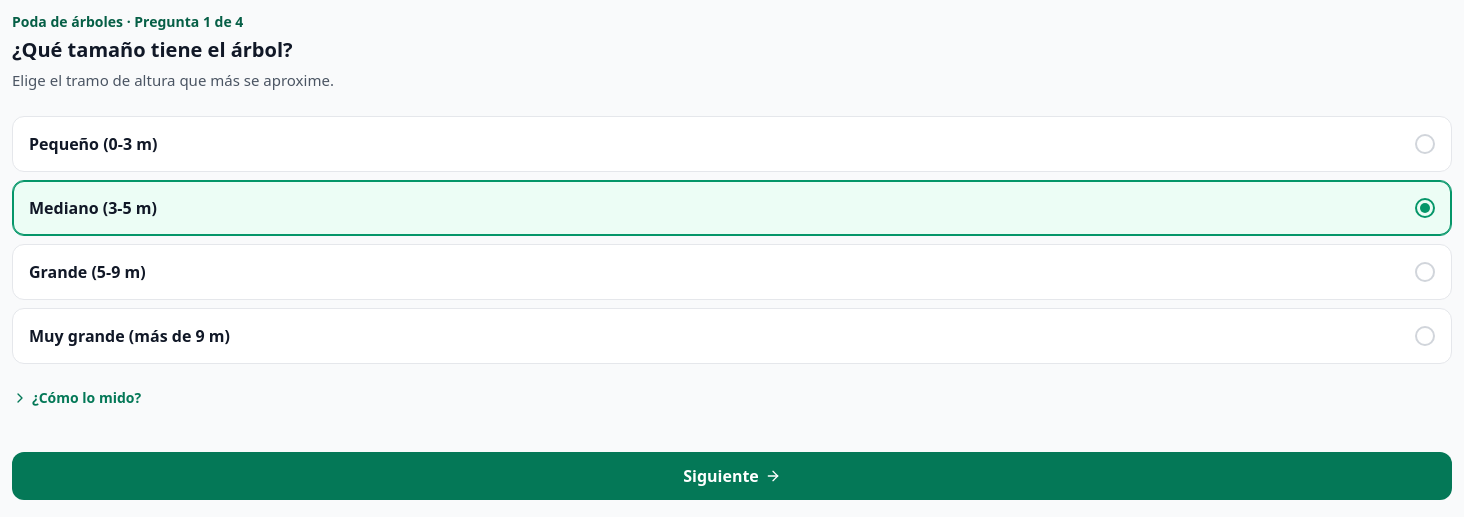
Test: árboles · acceso obligatorio (H-N-17) › sin elegir no avanza: error y foco en el grupo; al elegir, sigue
Click the button "Siguiente" at (732, 476), box [12,452,1452,500]
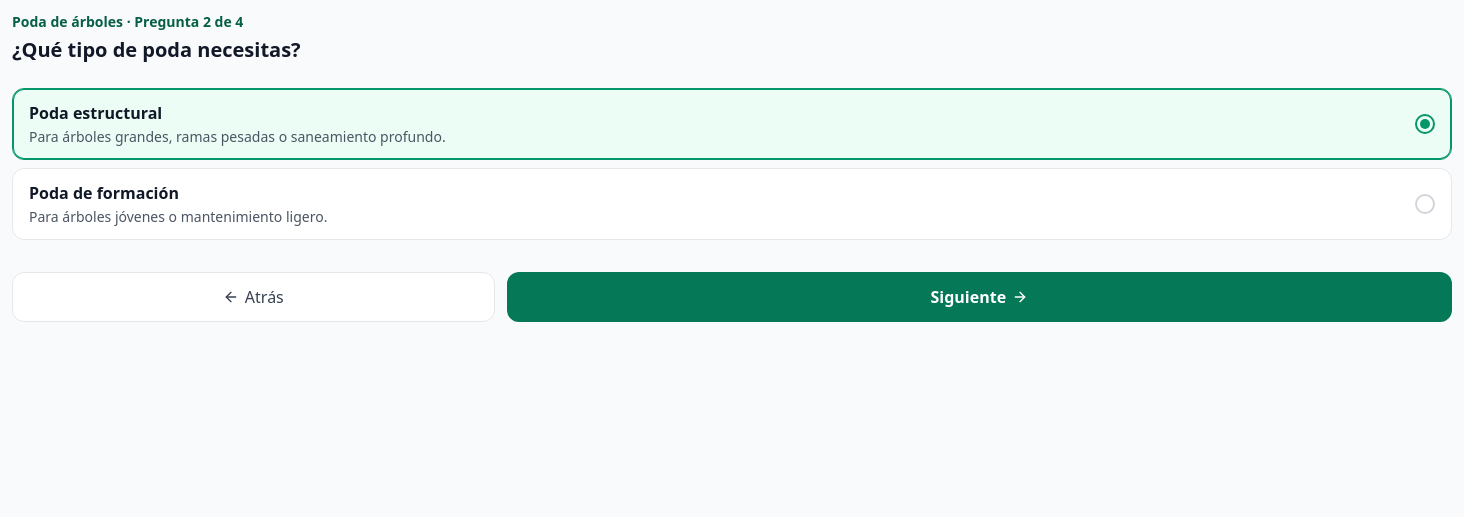
Click the button "Siguiente" at (979, 297), box [507,272,1452,322]
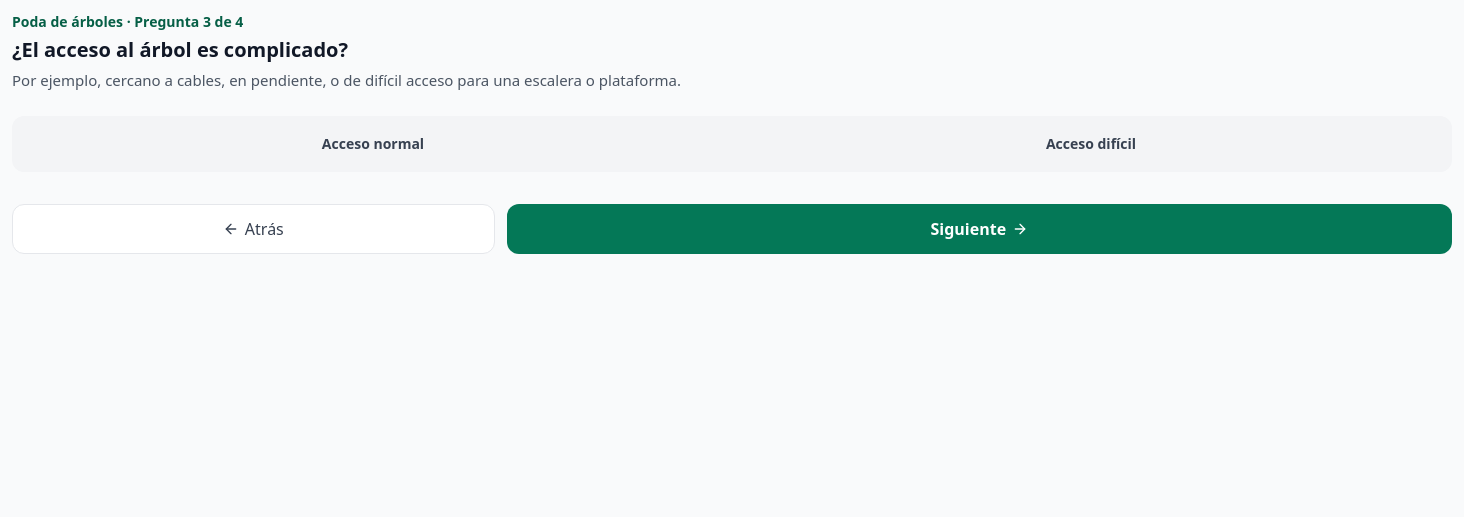
Click the button "Siguiente" at (979, 229), box [507,204,1452,254]
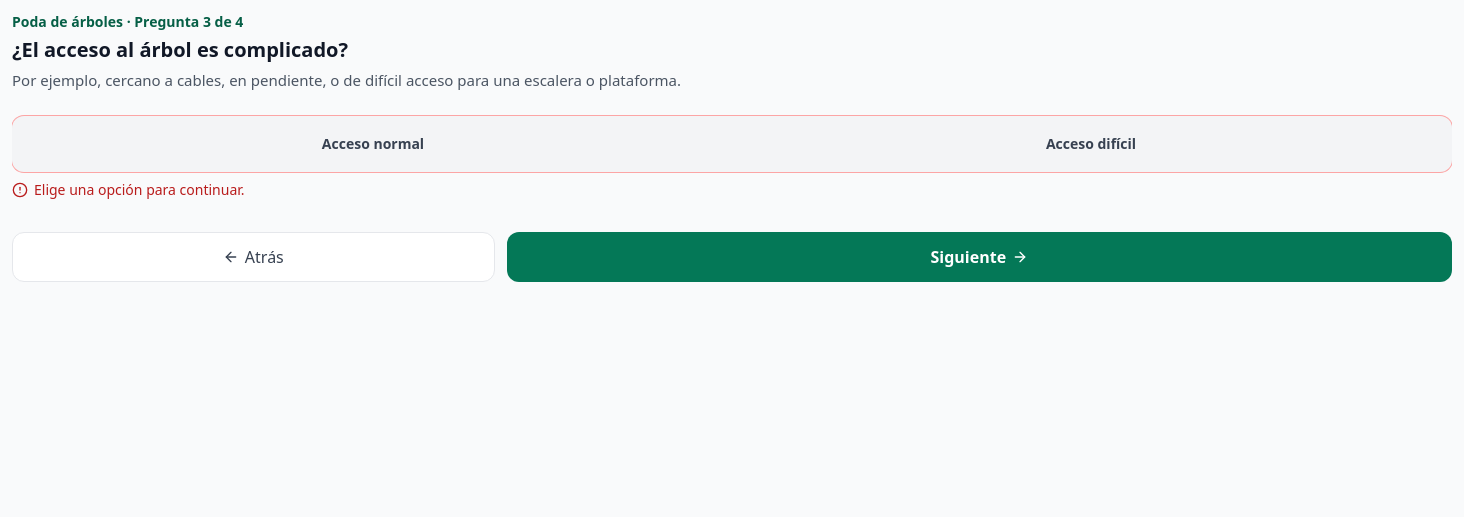
Expected: the heading reads "¿El acceso al árbol es complicado?", [12,36,348,63]
Expected: the text "Elige una opción para continuar." is shown, [34,180,244,200]
Click the radio button labelled "Acceso normal" at (373, 144), box [16,120,730,168]
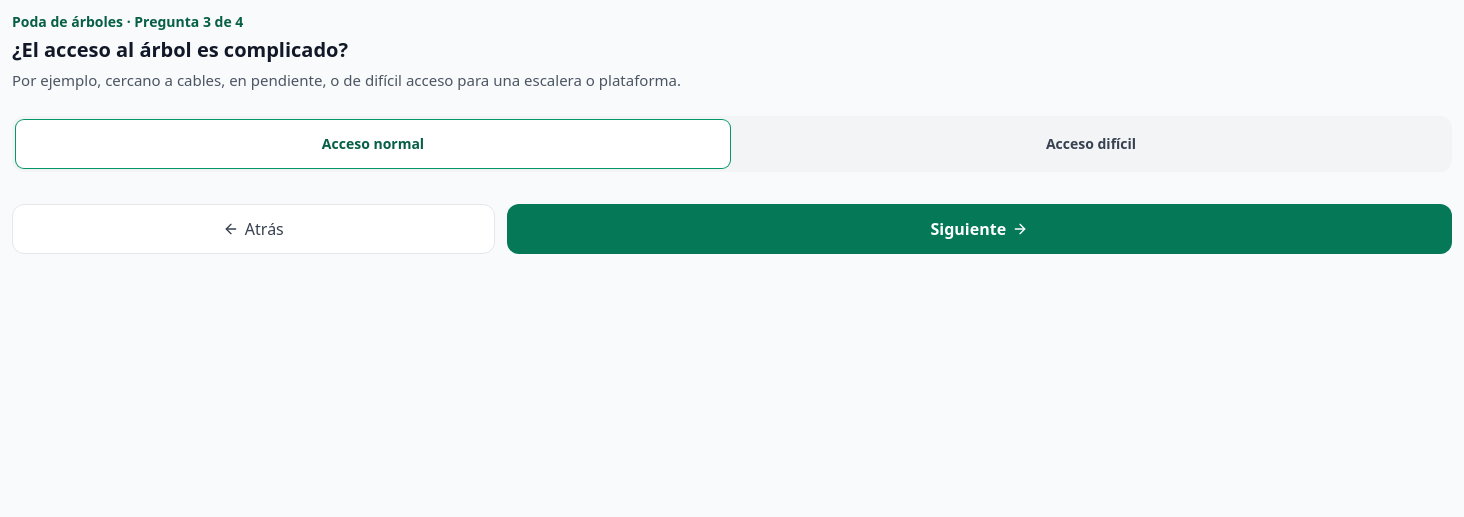
Click the button "Siguiente" at (979, 229), box [507,204,1452,254]
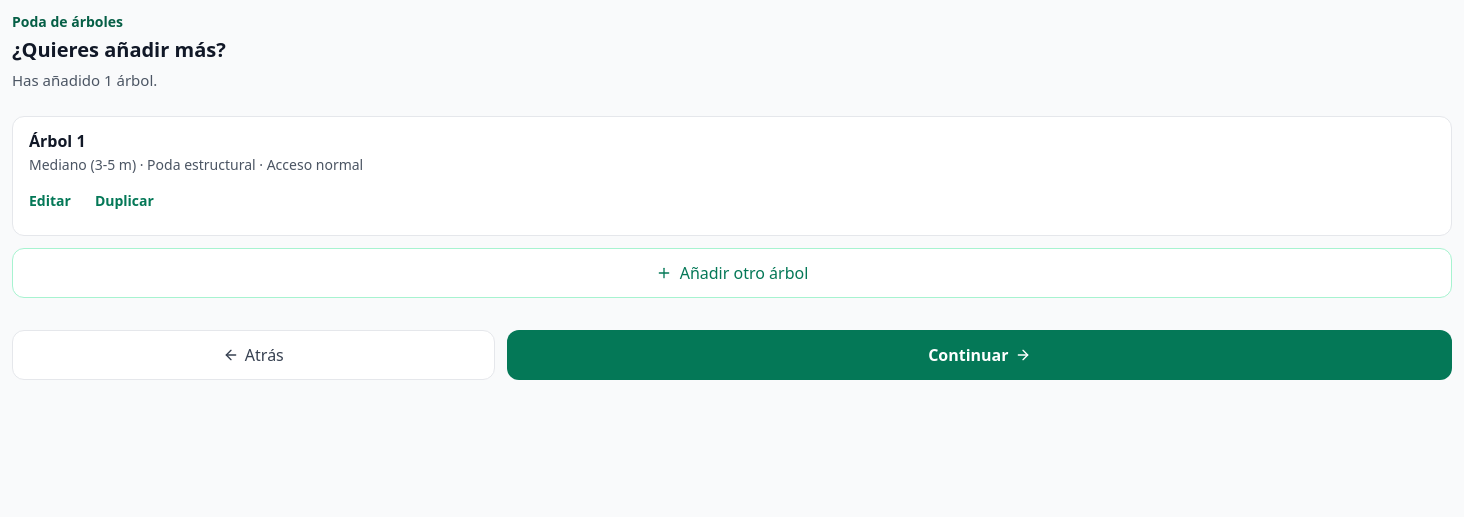
Expected: the heading reads "¿Quieres añadir más?", [12,36,226,63]
